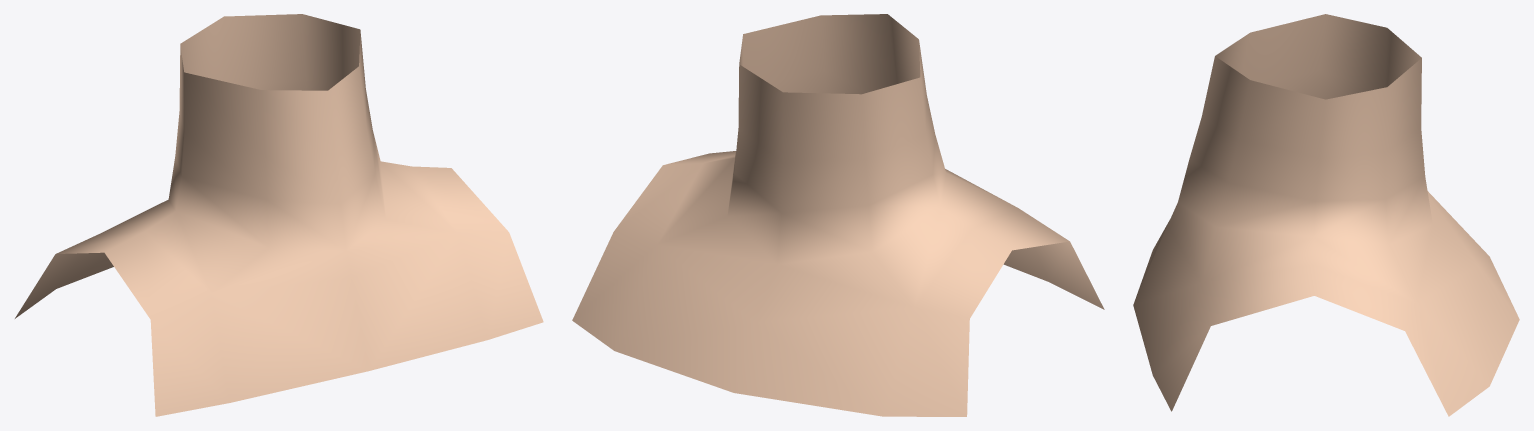
Rendered from Body_Neck.fbx.
3 views of the same model, side by side, from view 1: azimuth 30°, elevation 25°; view 2: azimuth 150°, elevation 25°; view 3: azimuth 270°, elevation 25° (orthographic).
Visible parts, largest first — view 1: Body_Neck; view 2: Body_Neck; view 3: Body_Neck.
Part boxes in pixels (<box>): Body_Neck: <box>15,14,543,416</box>; Body_Neck: <box>572,14,1104,416</box>; Body_Neck: <box>1133,14,1519,416</box>.
Bounding box in the file's own units: 24.34 × 15.8 × 20.84.
